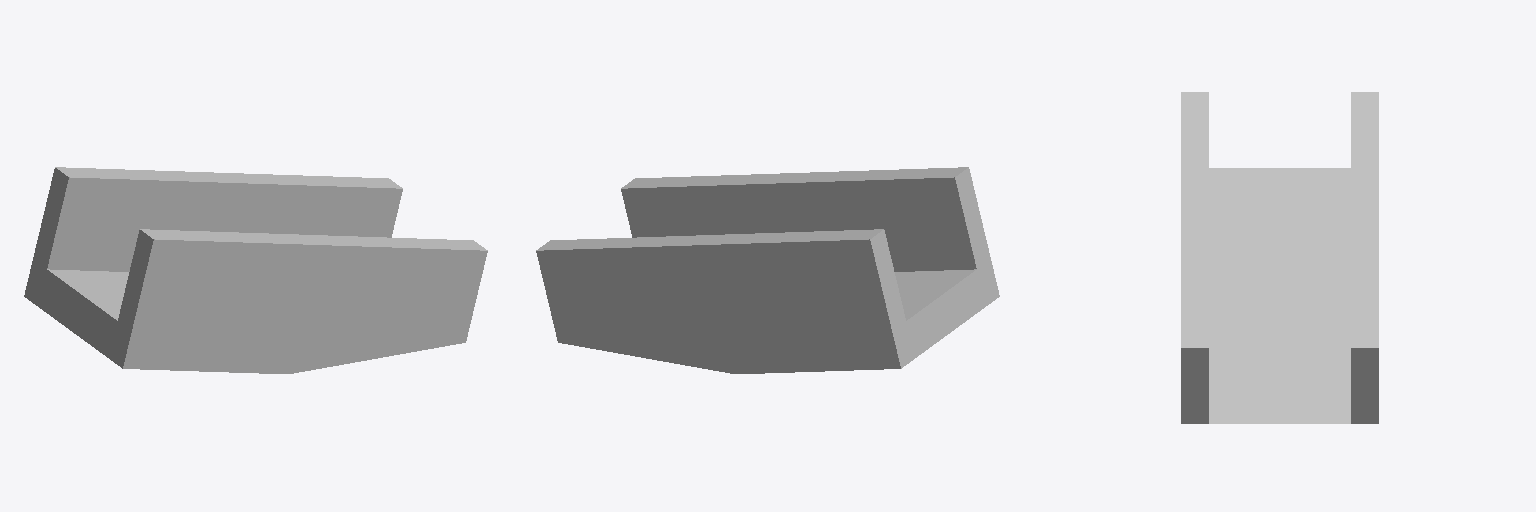
File: 15 Deg.obj
3 renders of one model, left to right at view 1: azimuth 30°, elevation 25°; view 2: azimuth 150°, elevation 25°; view 3: azimuth 270°, elevation 25°, orthographic.
Visible parts, largest first — view 1: Cube; view 2: Cube; view 3: Cube.
Part boxes in pixels (bbox=[...]): Cube: bbox=[24, 167, 487, 373]; Cube: bbox=[536, 167, 999, 373]; Cube: bbox=[1181, 92, 1378, 423].
Size of the model in its own units: 4.27 by 2 by 2.